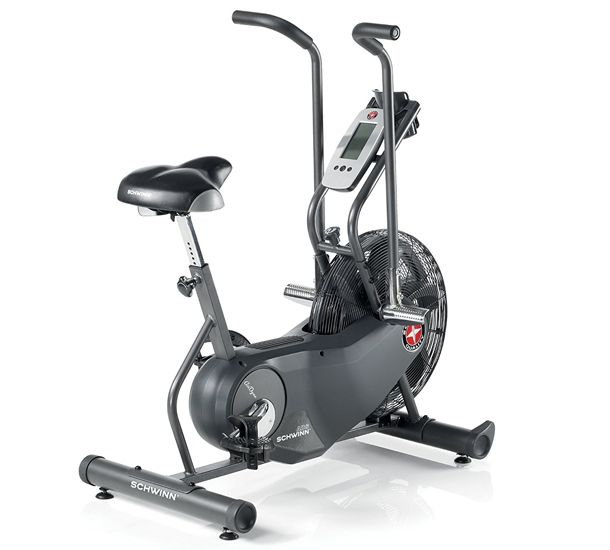gym_bike: (51, 10, 507, 531)
